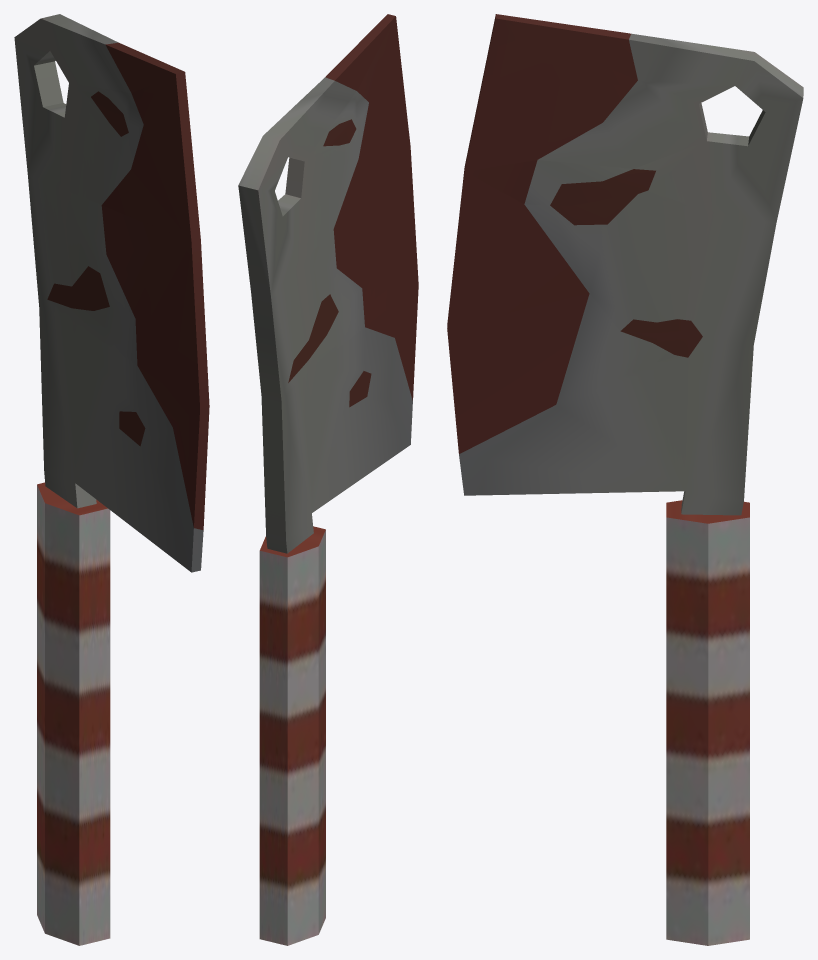
Rendered from SM_Wep_Cleaver_01.glb.
The picture shows the model from 3 angles, left to right: view 1: azimuth 30°, elevation 25°; view 2: azimuth 150°, elevation 25°; view 3: azimuth 270°, elevation 25°; orthographic projection. The views are drawn at different scales.
Parts seen in each view (by area): view 1: SM_Wep_Cleaver_01; view 2: SM_Wep_Cleaver_01; view 3: SM_Wep_Cleaver_01.
Part boxes in pixels (x1,y1,x2,y2): SM_Wep_Cleaver_01: (14,14,209,945); SM_Wep_Cleaver_01: (238,14,418,945); SM_Wep_Cleaver_01: (447,14,803,945).
Bounding box in the file's own units: 3 × 46.55 × 16.44.
1 material, 1 textured.
